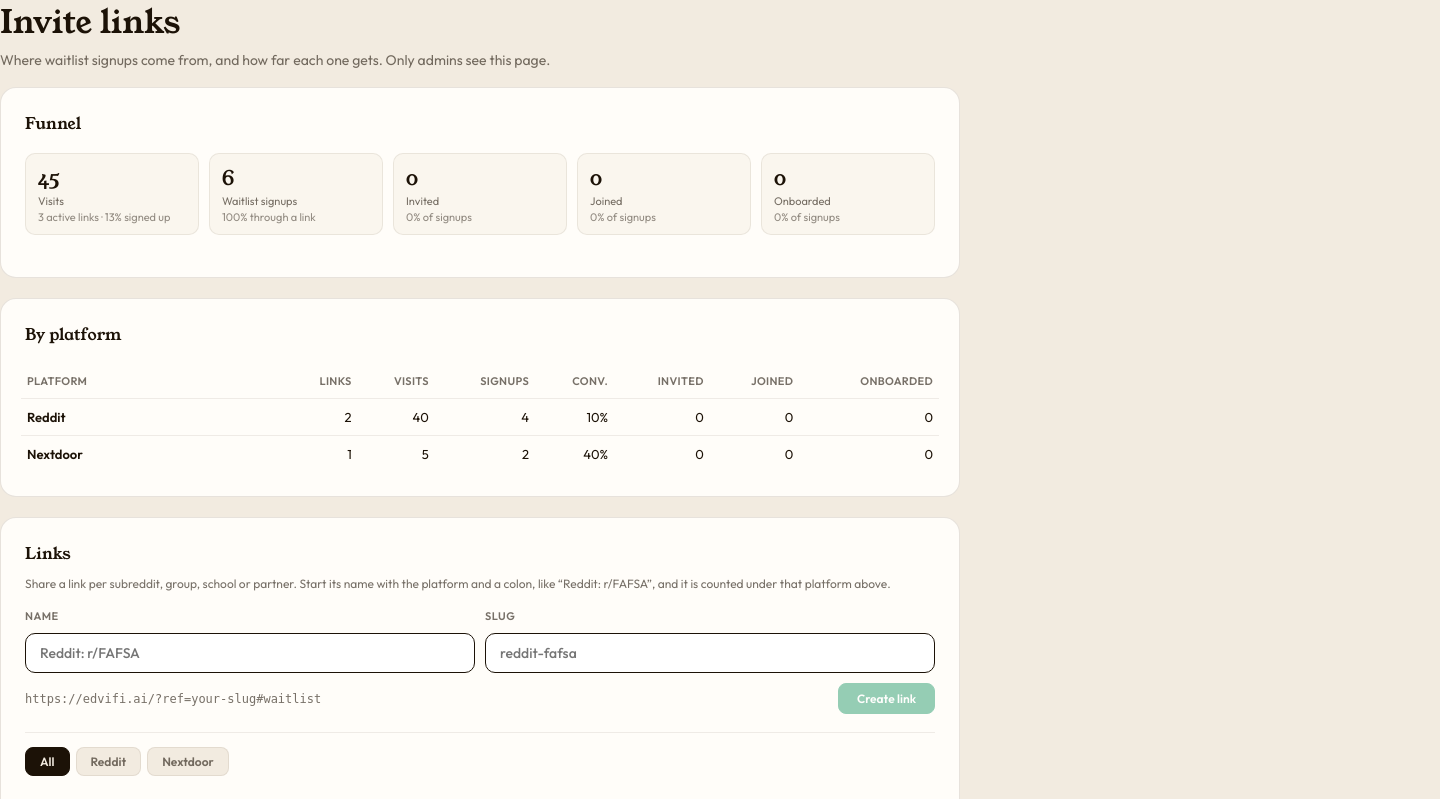
Scenario: InviteLinksPage › adds up each platform and filters the links to one
Click the radio button labelled "Nextdoor". click: (188, 762)
box: [147,747,229,776]
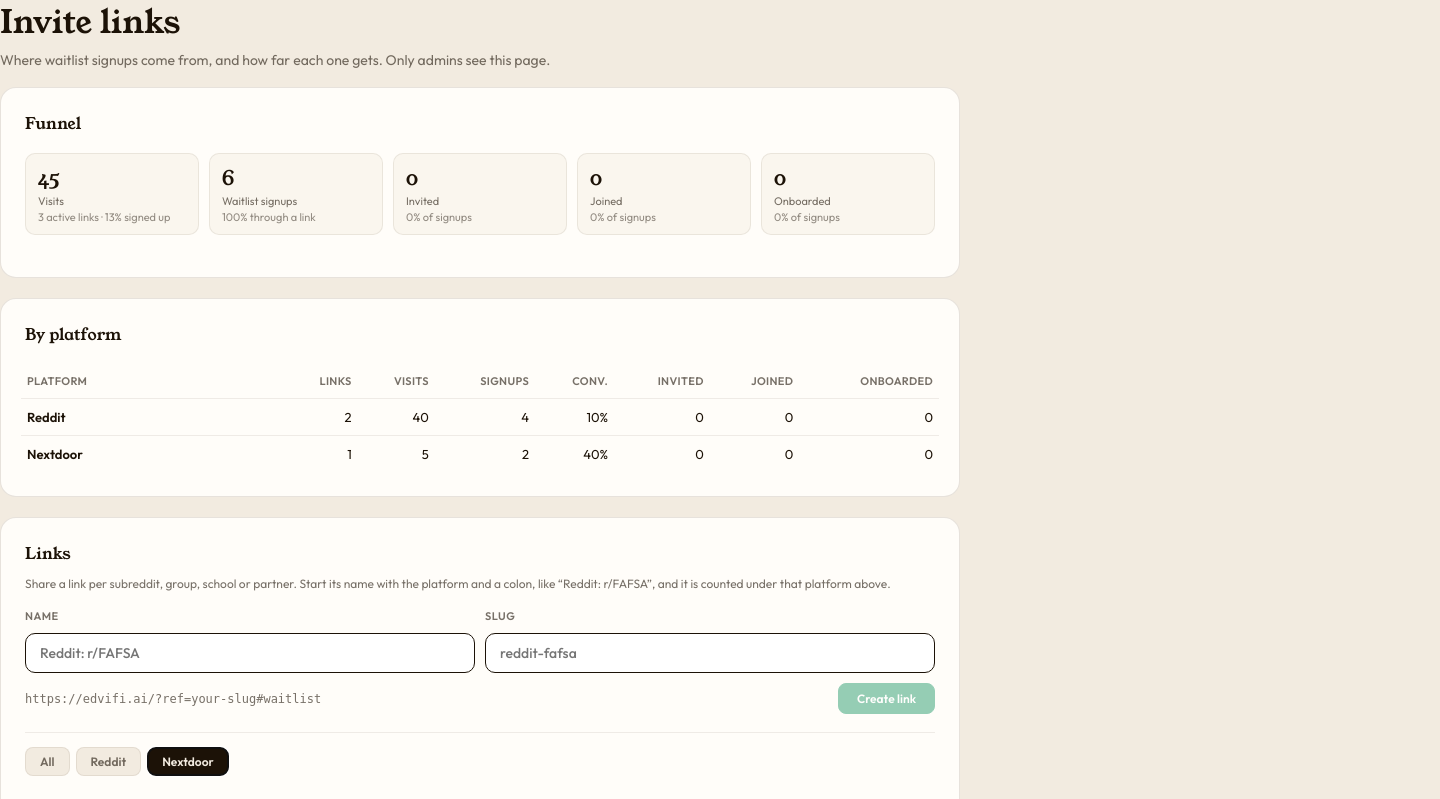
Click the radio button labelled "All". click: (47, 762)
box: [25,747,70,776]
(page scrolled)
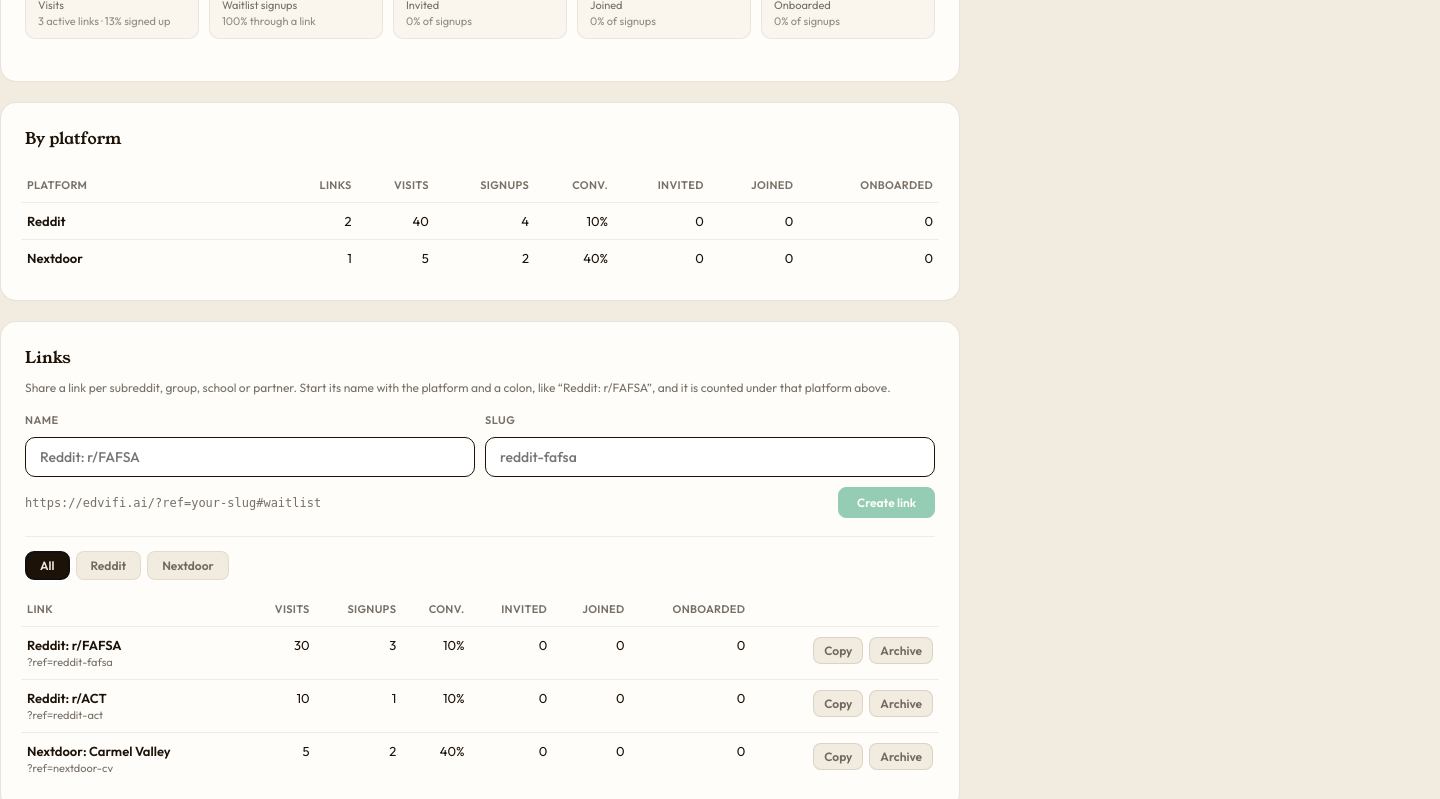
Check: the text "Reddit: r/FAFSA" is shown, box [27,637,122,653]
